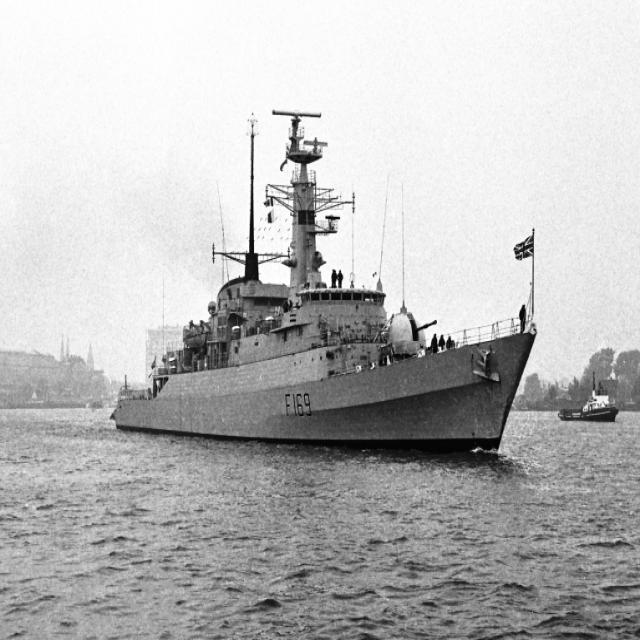Fragata: (110, 100, 542, 461)
